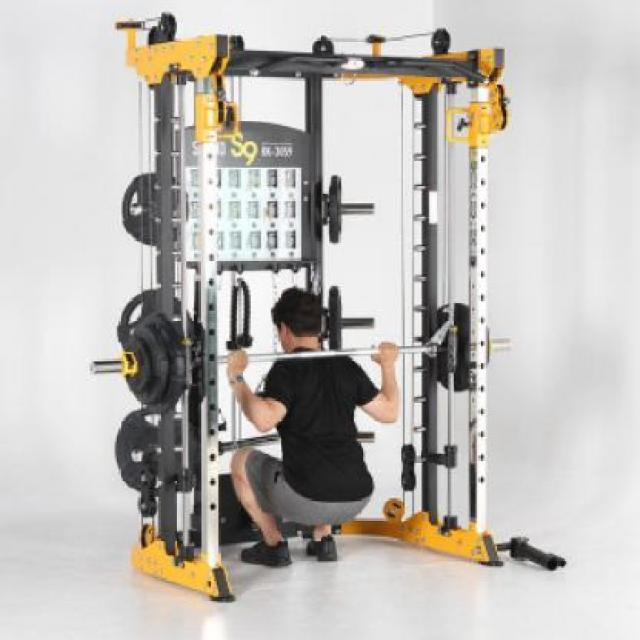smith machine: (91, 12, 512, 605)
